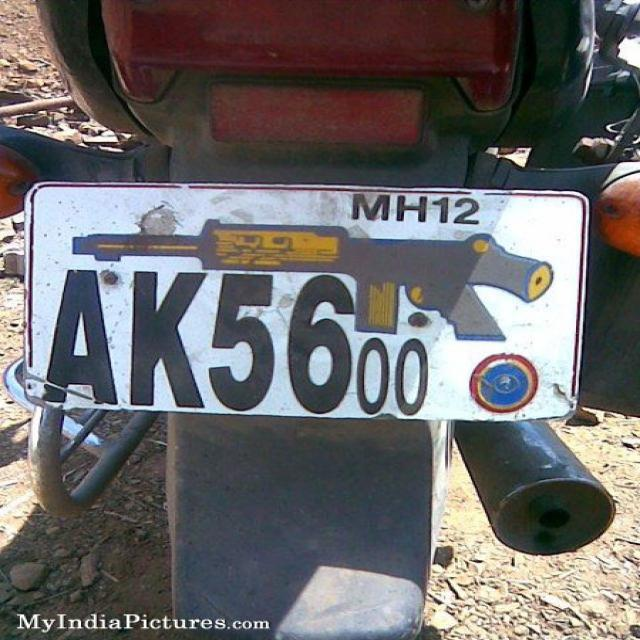number_plate: (31, 183, 579, 416)
